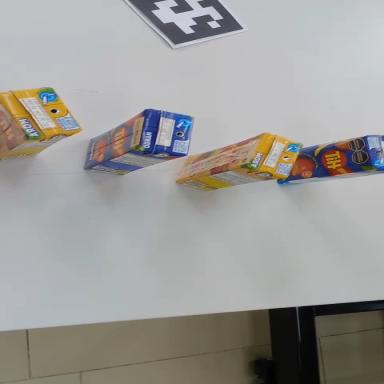HIT-MANGO: (73, 98, 202, 185), (274, 133, 384, 186)
HIT-MORA: (171, 127, 306, 196), (0, 80, 84, 162)
cara_F: (72, 109, 158, 170), (273, 135, 374, 183), (170, 133, 271, 181), (0, 97, 30, 157)
